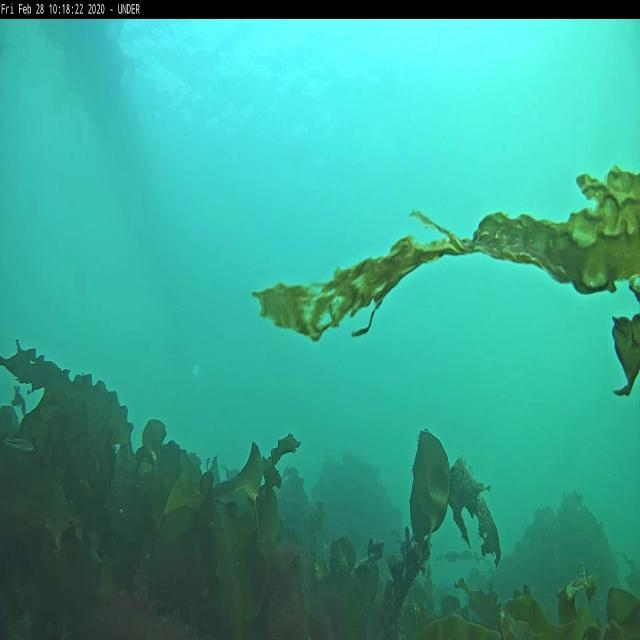fish: (5, 434, 36, 450)
